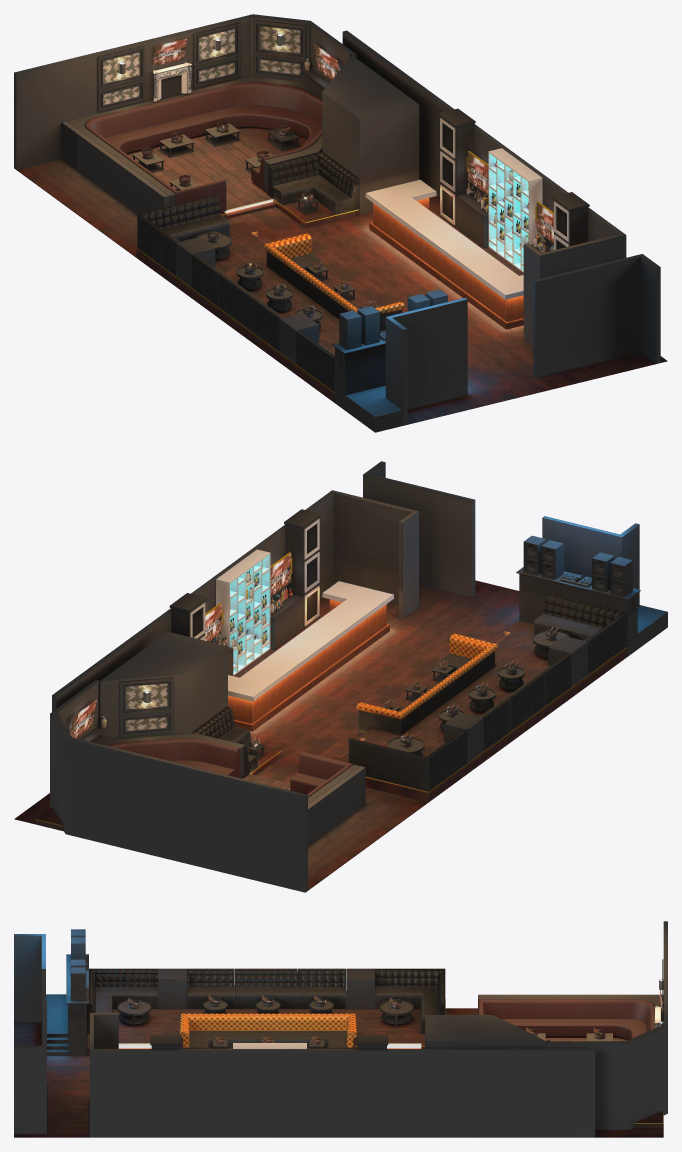
Rendered from CandleroomDallasBaked.glb.
3 views of the same model, one above another, from view 1: azimuth 30°, elevation 25°; view 2: azimuth 150°, elevation 25°; view 3: azimuth 270°, elevation 25° (orthographic). The views are drawn at different scales.
Parts seen in each view (by area): view 1: Plane_Baked, Cube.012_Baked, Circle.004_Baked, Plane.001_Baked, Cube.010_Baked, Circle.001_Baked; view 2: Plane_Baked, Circle.004_Baked, Cube.010_Baked, Circle.001_Baked, Cube.012_Baked, Plane.001_Baked; view 3: Plane_Baked, Circle.004_Baked, Cube.012_Baked, Cube.010_Baked, Circle.001_Baked.
Part boxes in pixels (bbox=[...]): Plane_Baked: bbox=[14, 14, 667, 432]; Cube.012_Baked: bbox=[84, 81, 322, 212]; Circle.004_Baked: bbox=[137, 195, 322, 351]; Plane.001_Baked: bbox=[268, 151, 359, 214]; Cube.010_Baked: bbox=[263, 233, 404, 331]; Circle.001_Baked: bbox=[295, 330, 334, 391]; Plane_Baked: bbox=[14, 461, 667, 892]; Circle.004_Baked: bbox=[348, 653, 571, 791]; Cube.010_Baked: bbox=[356, 633, 498, 735]; Circle.001_Baked: bbox=[532, 593, 626, 674]; Cube.012_Baked: bbox=[107, 738, 353, 797]; Plane.001_Baked: bbox=[191, 706, 264, 777]; Plane_Baked: bbox=[14, 921, 667, 1137]; Circle.004_Baked: bbox=[187, 968, 445, 1033]; Cube.012_Baked: bbox=[478, 999, 655, 1041]; Cube.010_Baked: bbox=[179, 1013, 356, 1048]; Circle.001_Baked: bbox=[87, 968, 157, 1033].
Size of the model in its own units: 3.46 by 1.15 by 7.36.
6 materials, 6 textured.
